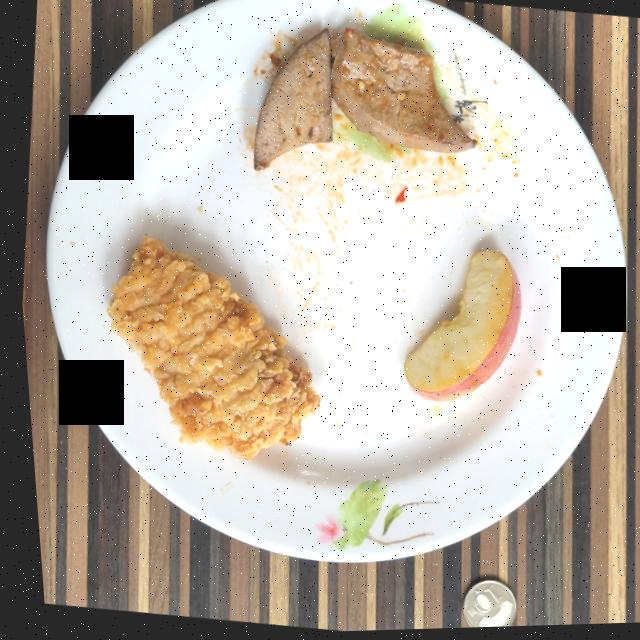apple -sliced-: (398, 253, 516, 403)
coin: (452, 582, 506, 630)
fried chicken cutlet: (103, 237, 313, 460)
pig liver: (251, 30, 473, 172)
